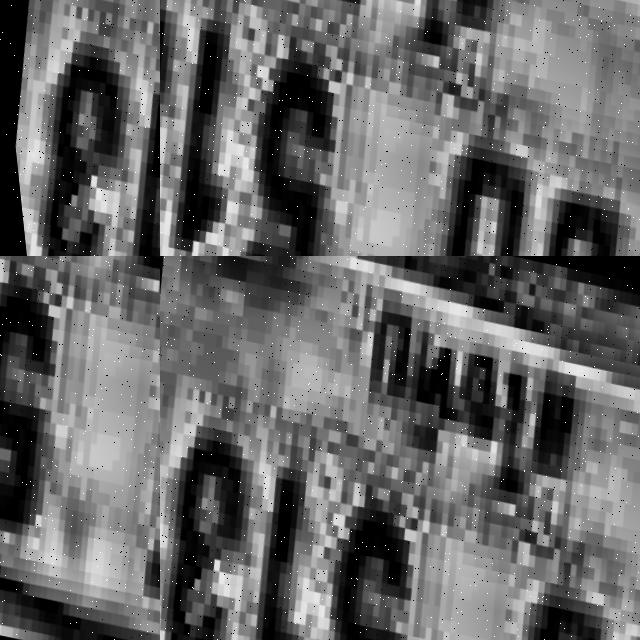license-plate: (160, 256, 640, 640), (160, 0, 640, 256), (0, 256, 160, 640), (0, 0, 160, 256)
